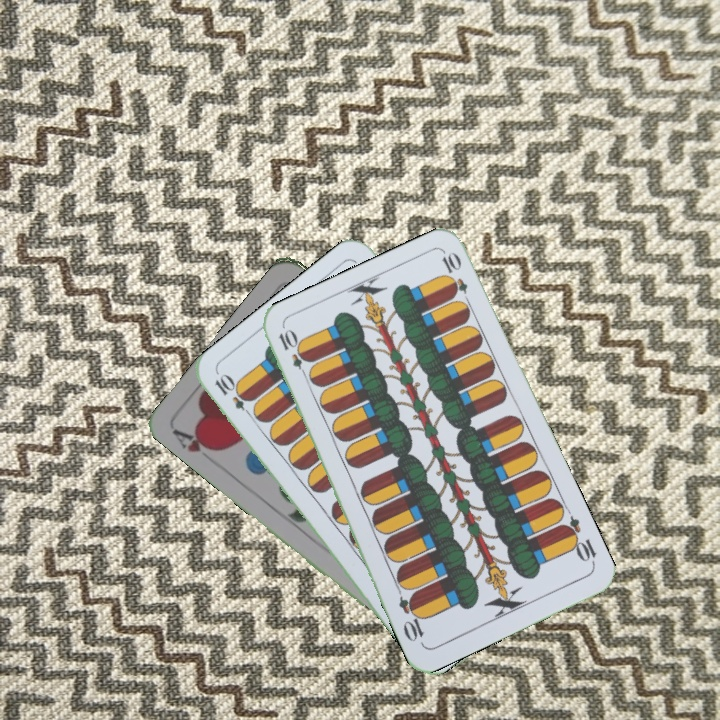E10: (210, 370, 258, 421), (557, 512, 599, 568), (274, 325, 313, 382)
HA: (168, 424, 224, 456)
